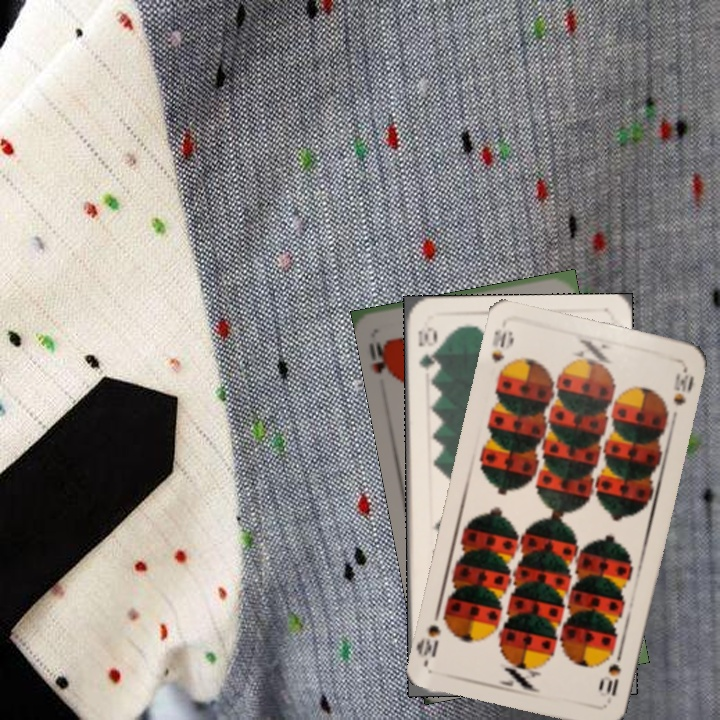G10: (414, 323, 438, 373)
HO: (365, 336, 397, 380)
S10: (487, 325, 516, 382), (596, 647, 625, 699)
